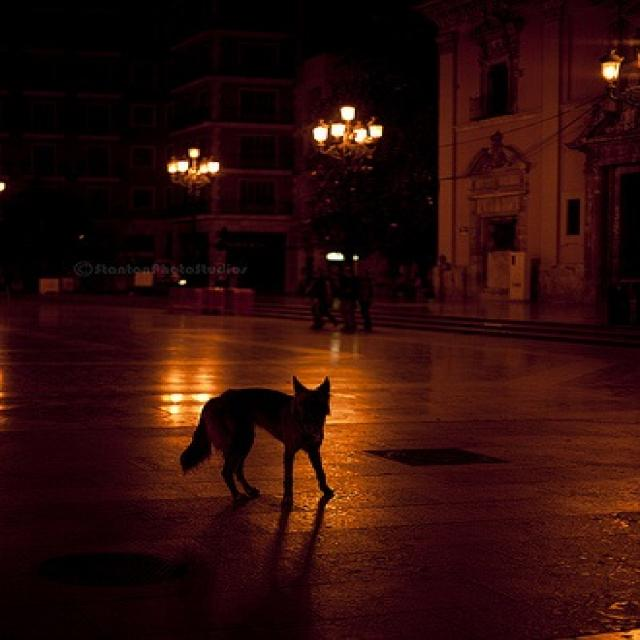dog: (128, 351, 352, 532)
